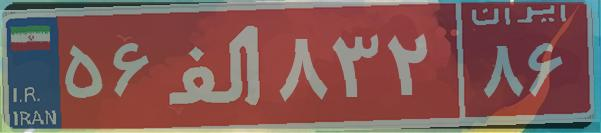2: (385, 28, 445, 110)
3: (330, 28, 385, 110)
5: (57, 26, 110, 107)
6: (110, 28, 158, 105), (525, 38, 570, 115)
8: (273, 28, 330, 110), (475, 38, 525, 113)
الف: (158, 15, 273, 115)
